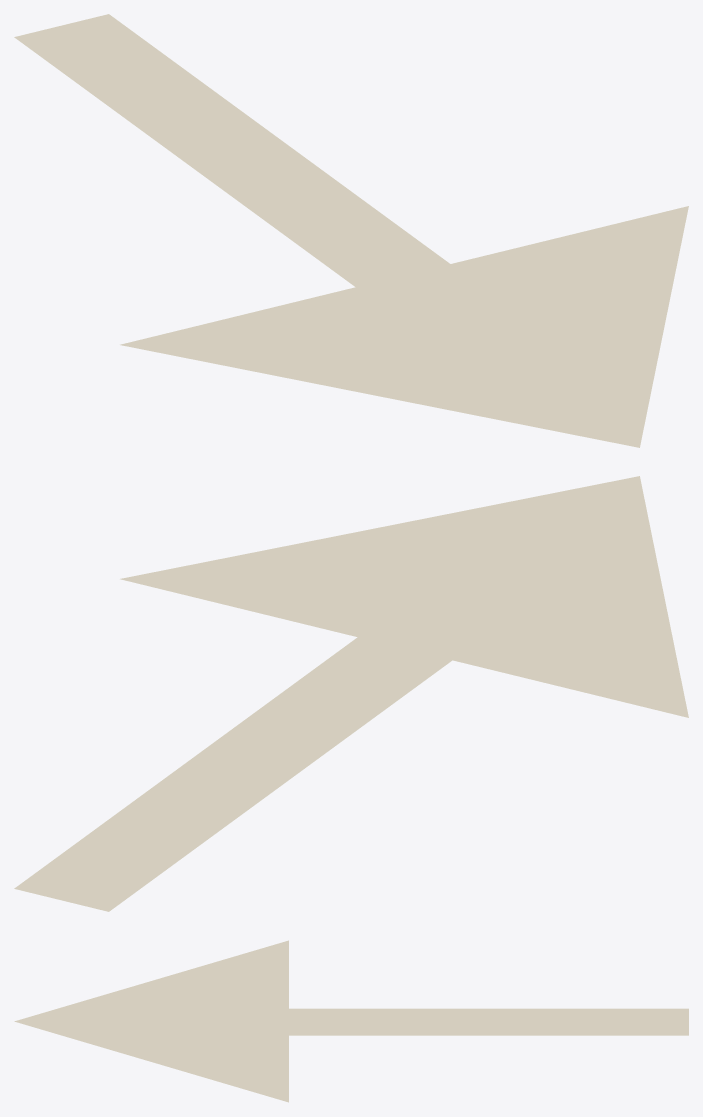
The model's file is q01-arrow.glb.
The picture shows the model from 3 angles, top to bottom: view 1: azimuth 30°, elevation 25°; view 2: azimuth 150°, elevation 25°; view 3: azimuth 270°, elevation 25°; orthographic projection. The views are drawn at different scales.
Size of the model in its own units: 0.6 by 0.001 by 1.06.
